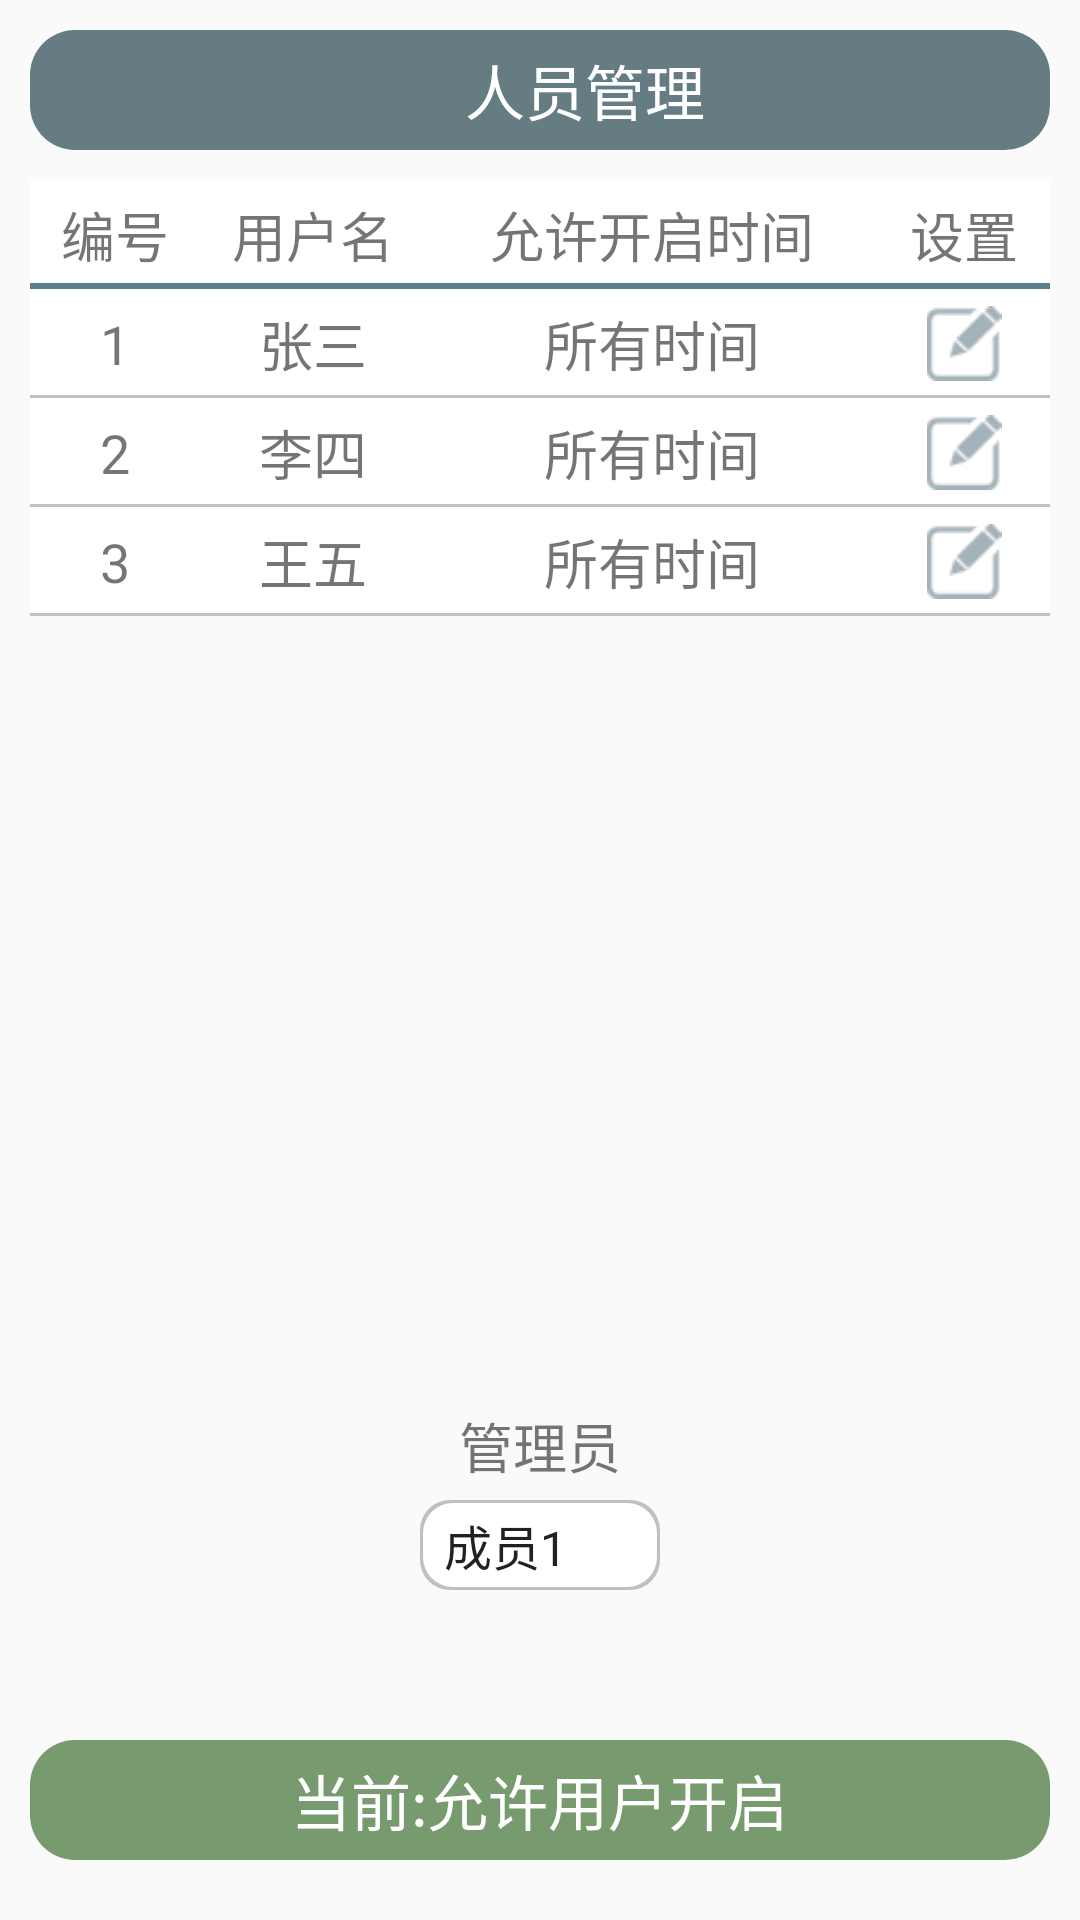

Icons on this 1080 × 1920 Android screen, each with its box as (left=x1, top=y1, right=x2, bottom=y2):
bianji: (left=927, top=306, right=1002, bottom=381), (left=927, top=415, right=1002, bottom=490), (left=927, top=524, right=1002, bottom=599)
